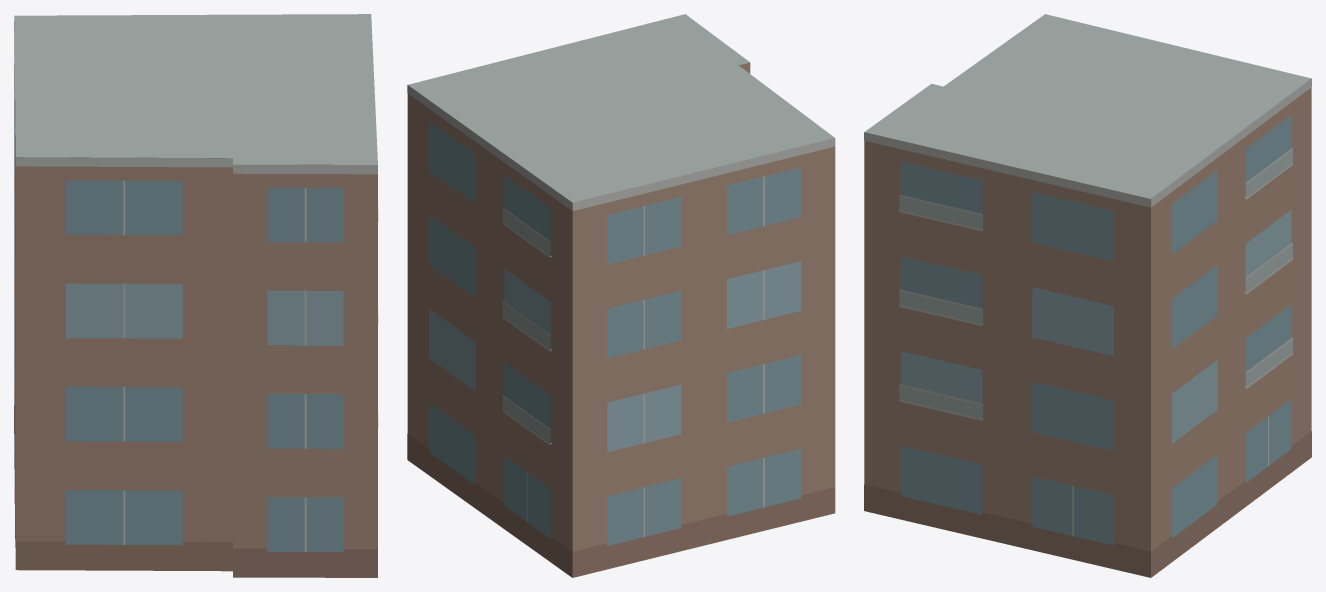
The model's file is survey-upis-32943486.glb.
3 views of the same model, side by side, from view 1: azimuth 30°, elevation 25°; view 2: azimuth 150°, elevation 25°; view 3: azimuth 270°, elevation 25° (orthographic). The views are drawn at different scales.
Visible parts, largest first — view 1: survey-upis-32943486.tmp; view 2: survey-upis-32943486.tmp; view 3: survey-upis-32943486.tmp.
Part boxes in pixels (bbox=[...]): survey-upis-32943486.tmp: bbox=[14, 14, 378, 577]; survey-upis-32943486.tmp: bbox=[407, 14, 835, 577]; survey-upis-32943486.tmp: bbox=[864, 14, 1311, 577].
Bounding box in the file's own units: 11.32 × 10.8 × 11.57.
